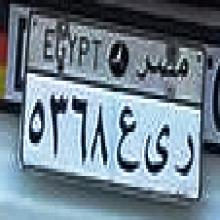3: (47, 88, 69, 165)
5: (27, 94, 46, 153)
6: (70, 89, 88, 165)
8: (89, 99, 108, 175)
ain: (114, 100, 141, 178)
raa: (174, 129, 196, 186)
yaa: (141, 120, 171, 180)
